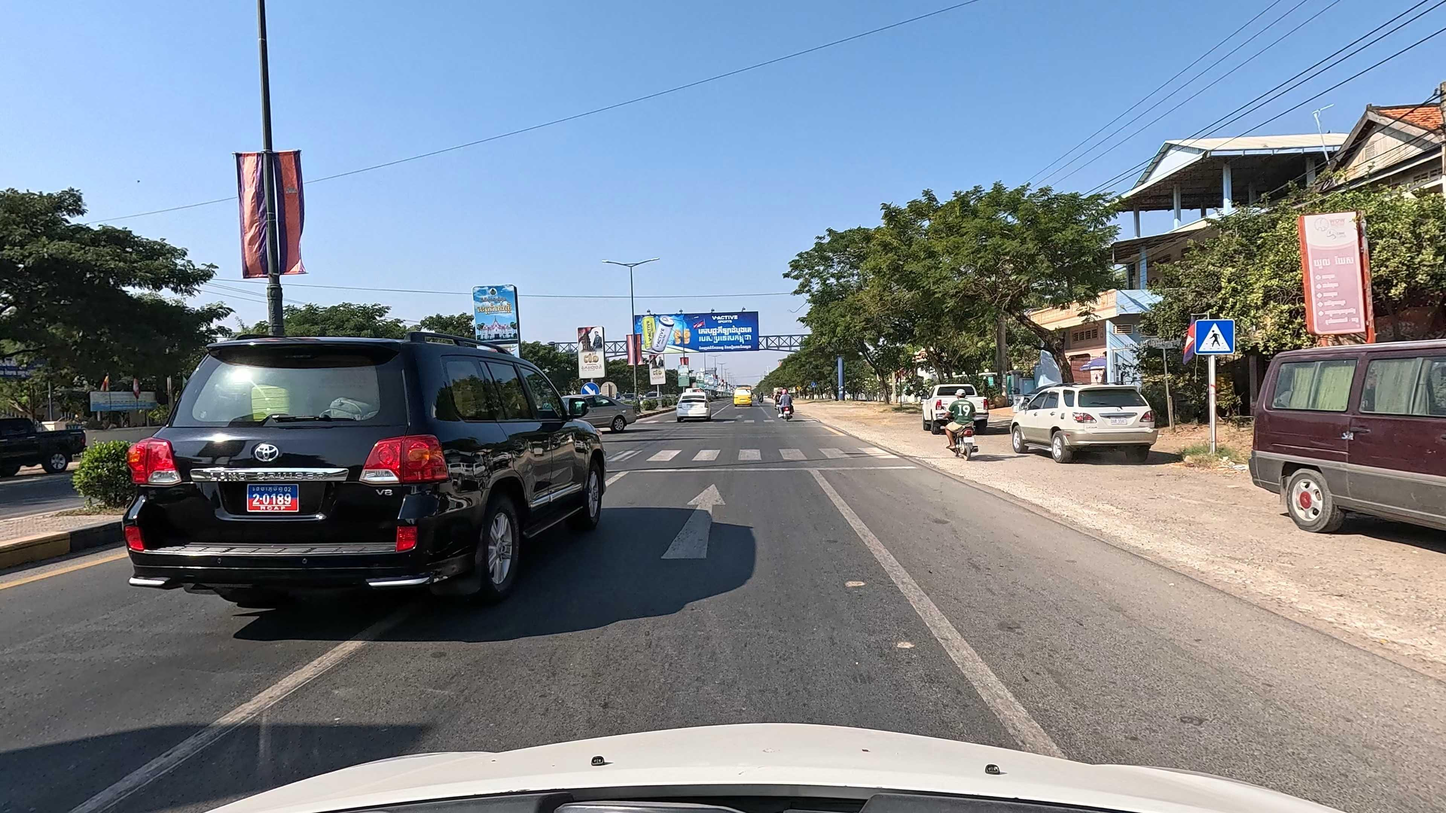pedestrian_crossing: (1195, 319, 1236, 354)
